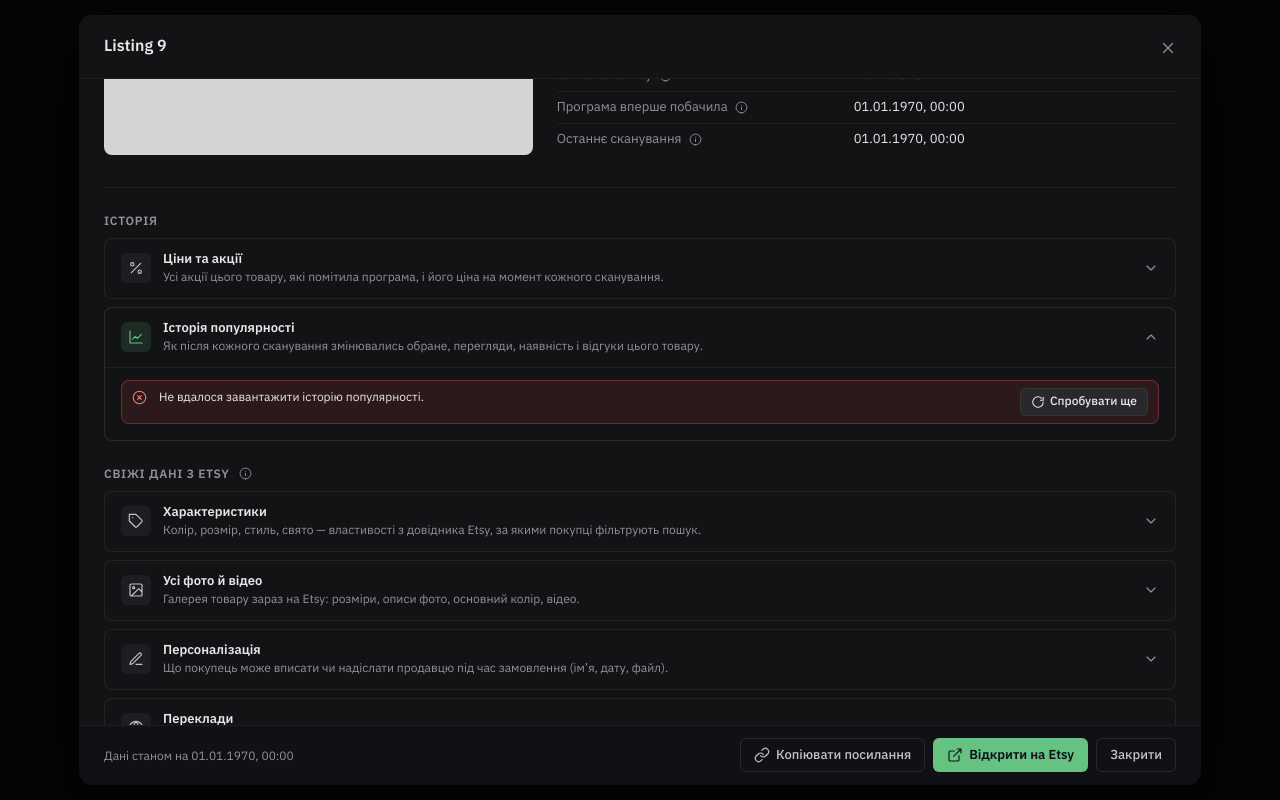
Test: ListingModal: popularity, details, raw JSON › the popularity history failing to load says so and retries
(page scrolled)
Expected: the element with test id "stats-history-failed" shows "Не вдалося завантажити історію популярності.", x1=159 y1=389 x2=424 y2=404
Click the button "Спробувати ще": [1084, 402] box x1=1020 y1=388 x2=1148 y2=416
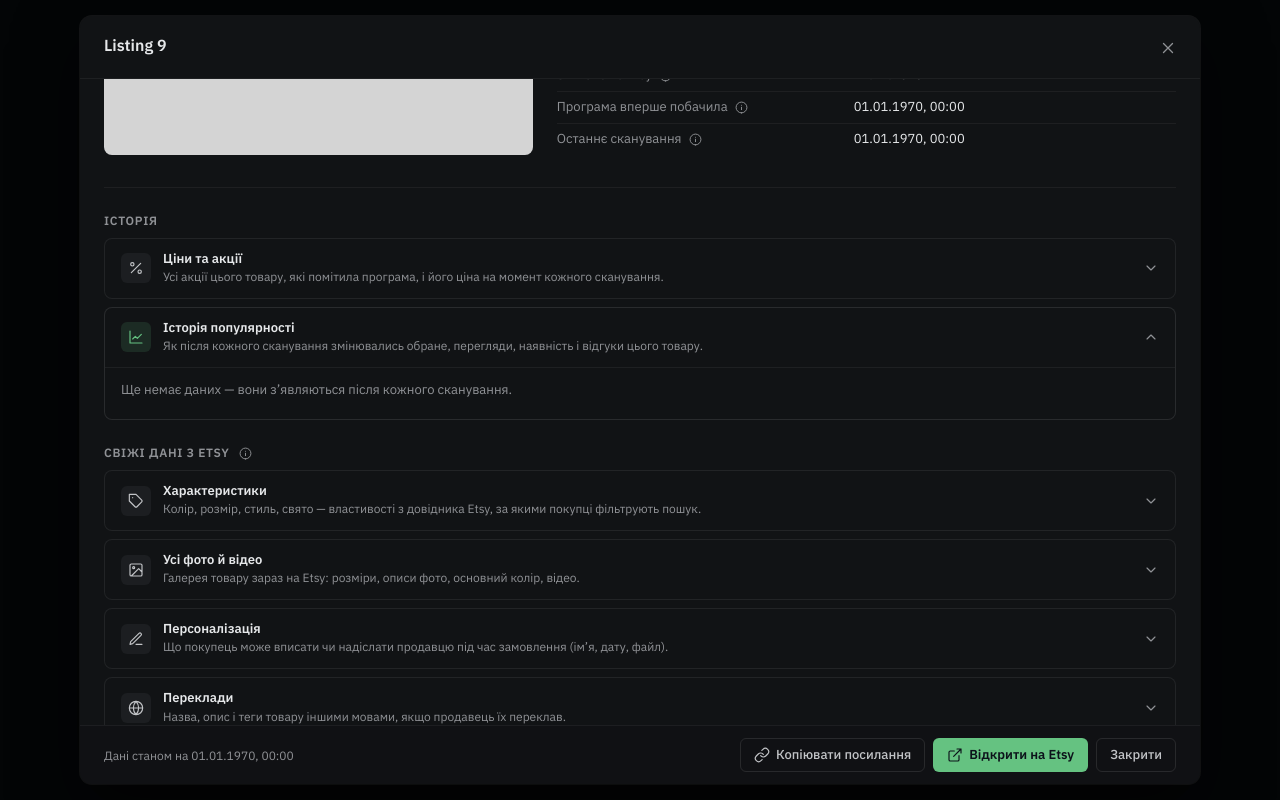
Result: the text "Ще немає даних — вони з’являються після кожного сканування." is shown at x1=121 y1=381 x2=512 y2=398
Result: the element with test id "stats-history-failed" is gone
